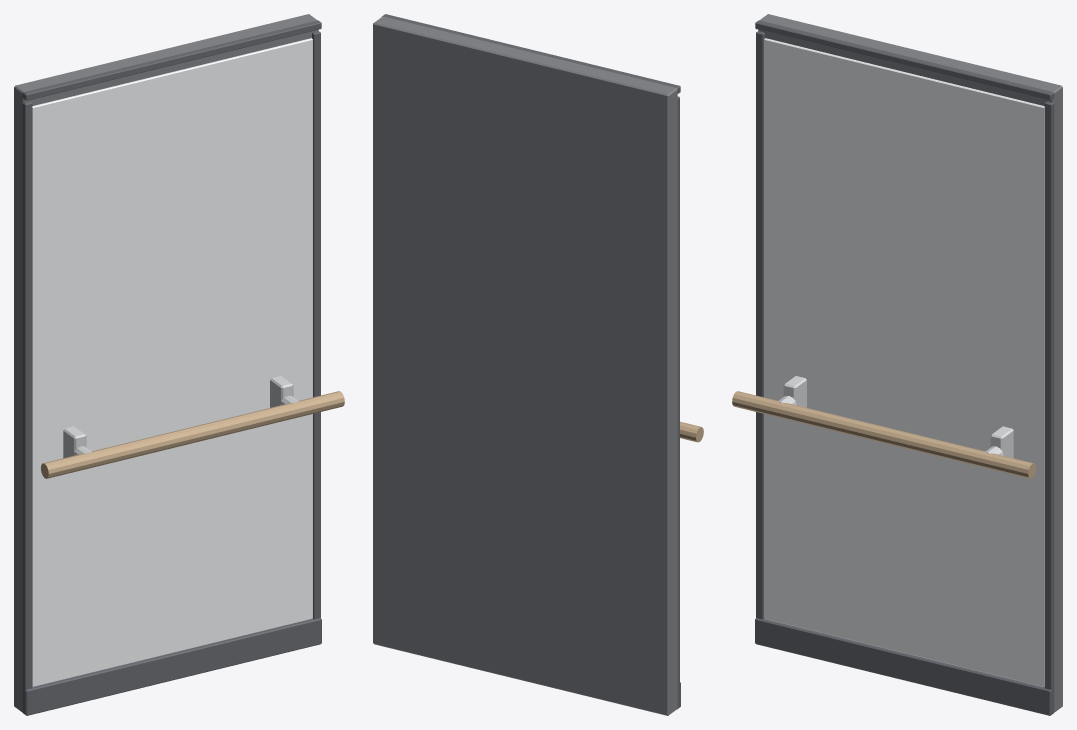
The model's file is gym-and-fitness-studio-mirror-wall-panel-with-barre-39d53462__33592.glb.
The picture shows the model from 3 angles, left to right: view 1: azimuth 30°, elevation 25°; view 2: azimuth 150°, elevation 25°; view 3: azimuth 330°, elevation 25°; orthographic projection.
Parts seen in each view (by area): view 1: mirror-wall-panel-with-barre; view 2: mirror-wall-panel-with-barre; view 3: mirror-wall-panel-with-barre.
Part boxes in pixels (x1=…): mirror-wall-panel-with-barre: x1=14, y1=14, x2=344, y2=715; mirror-wall-panel-with-barre: x1=373, y1=14, x2=703, y2=715; mirror-wall-panel-with-barre: x1=732, y1=14, x2=1062, y2=715.
Bounding box in the file's own units: 1.2 × 2.4 × 0.248.
